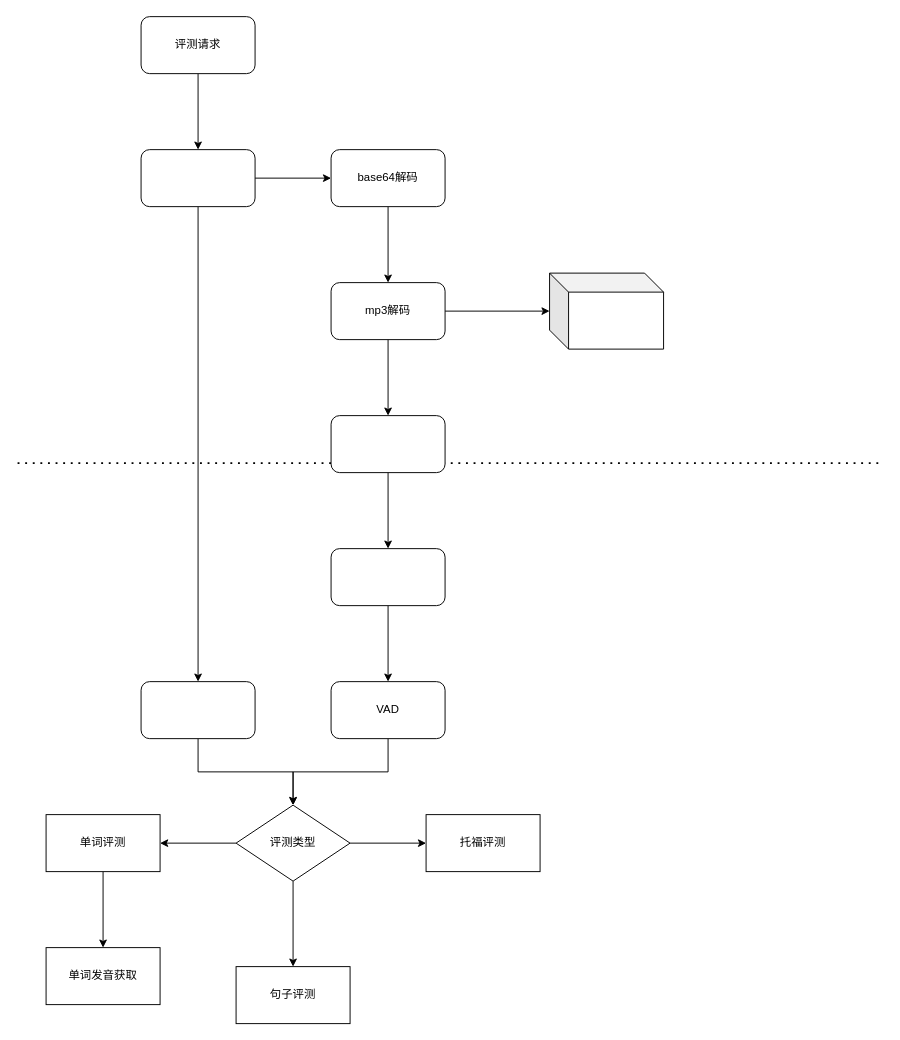
Image size: 900x1040. Some labels were removed from this diagram. Here are the shapes that lost their labels. From the top down, the centre of each, then its label:
(x=197, y=178): Json解析
(x=606, y=310): 评测结果数据库
(x=387, y=444): wav格式
(x=387, y=577): 5*A处理
(x=197, y=710): 评测文本
